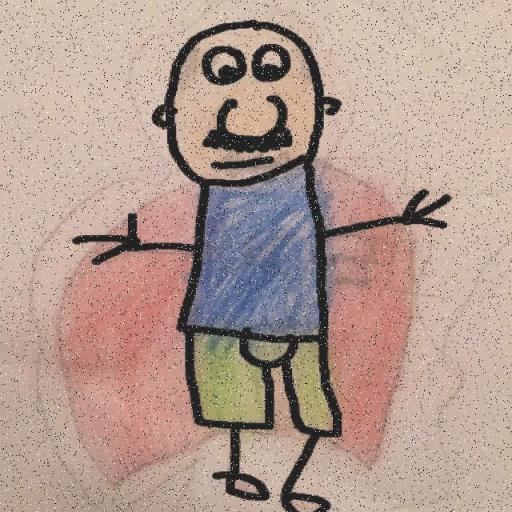person: (70, 14, 456, 512)
